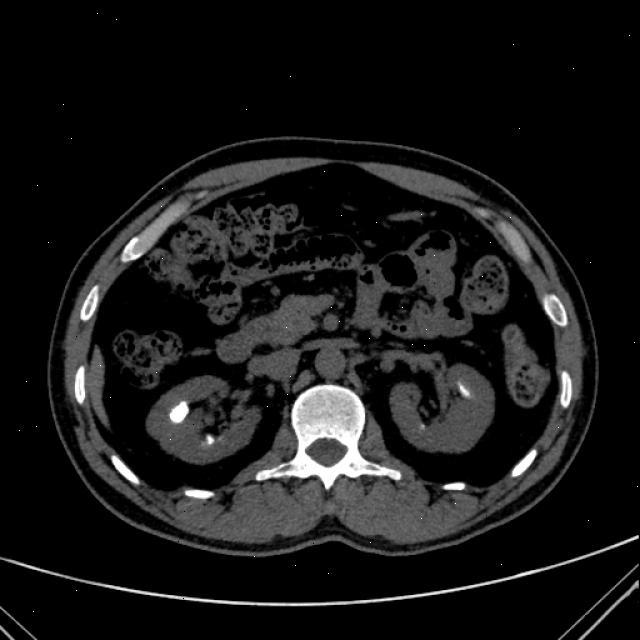kidneystone: (449, 378, 494, 402), (169, 400, 190, 423), (206, 434, 215, 444)
